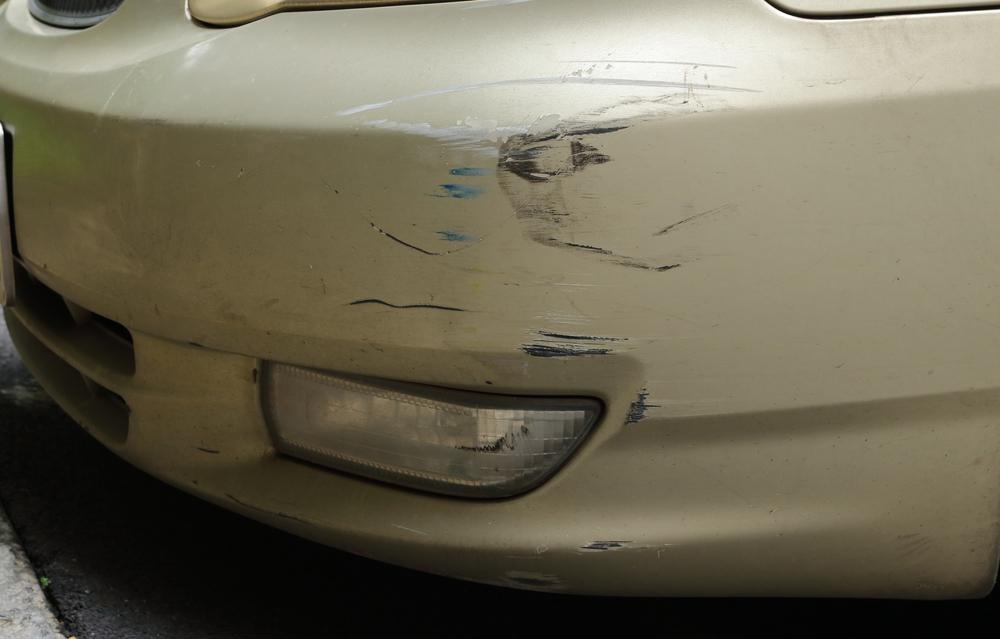scratch: (336, 57, 764, 427), (474, 535, 676, 590)
